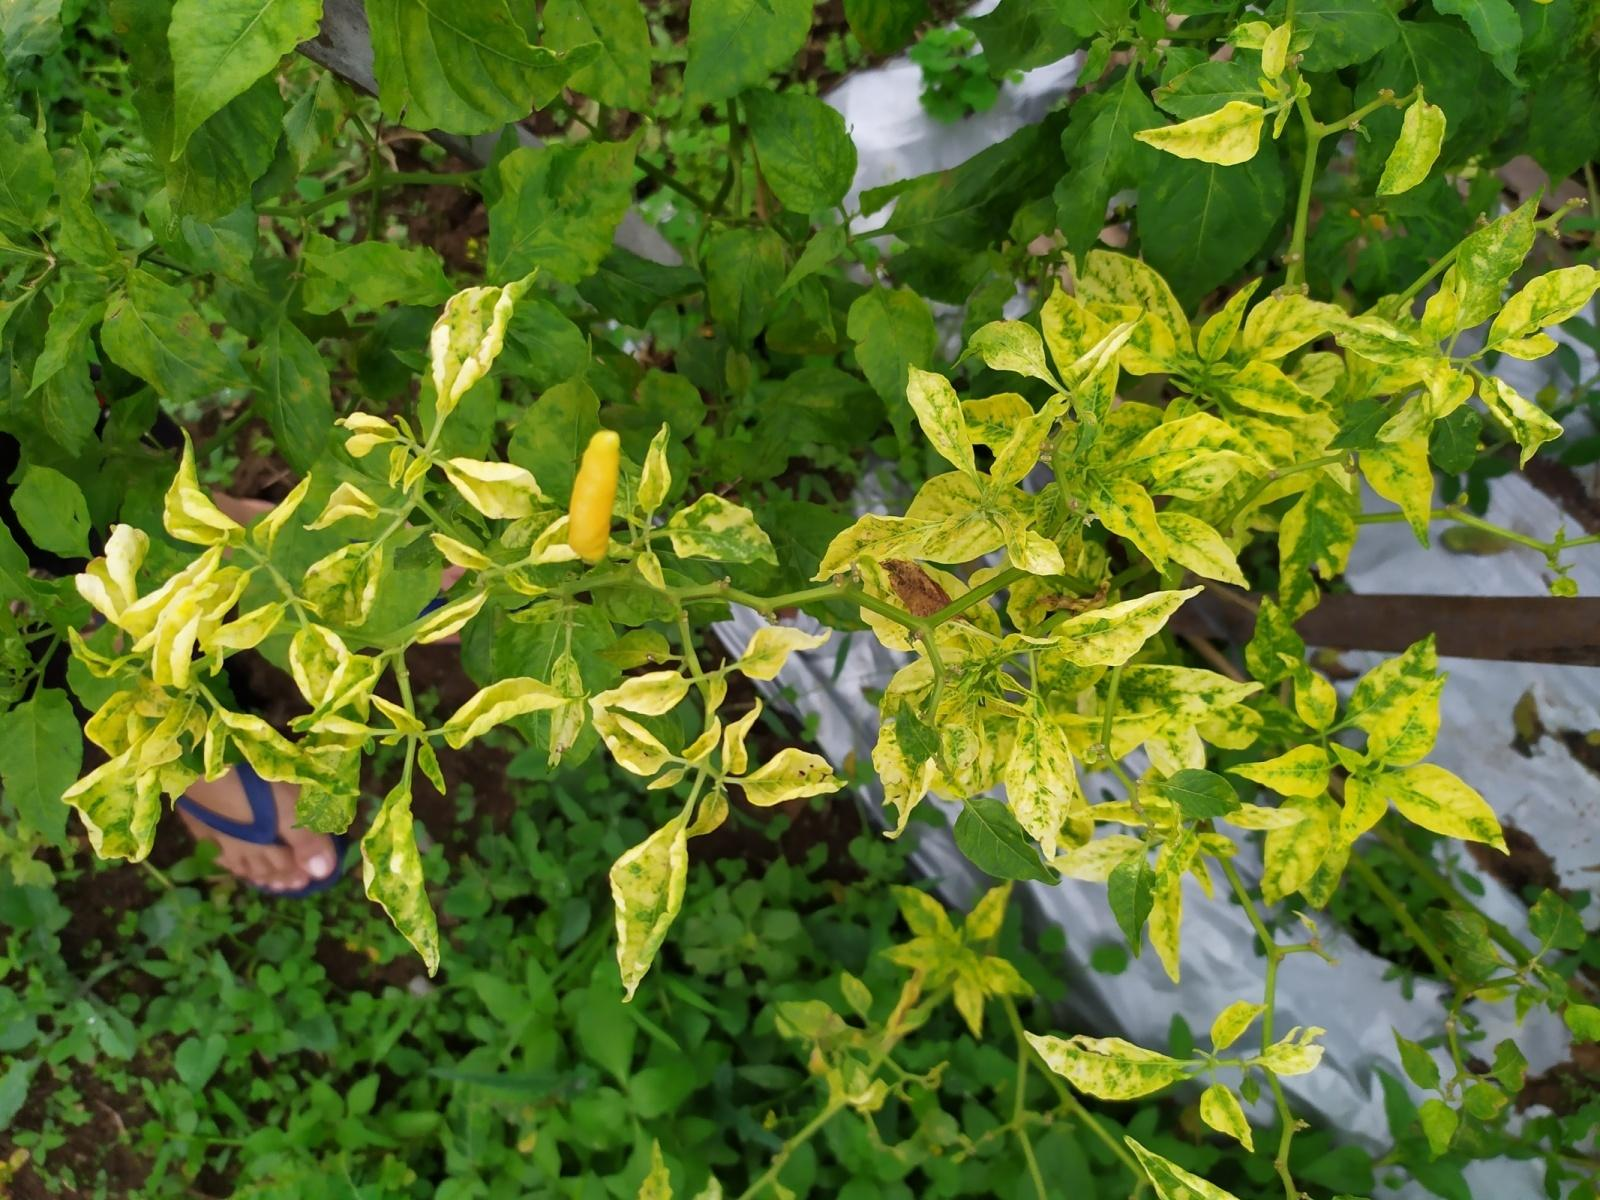cabai_normal: (567, 431, 622, 563)
